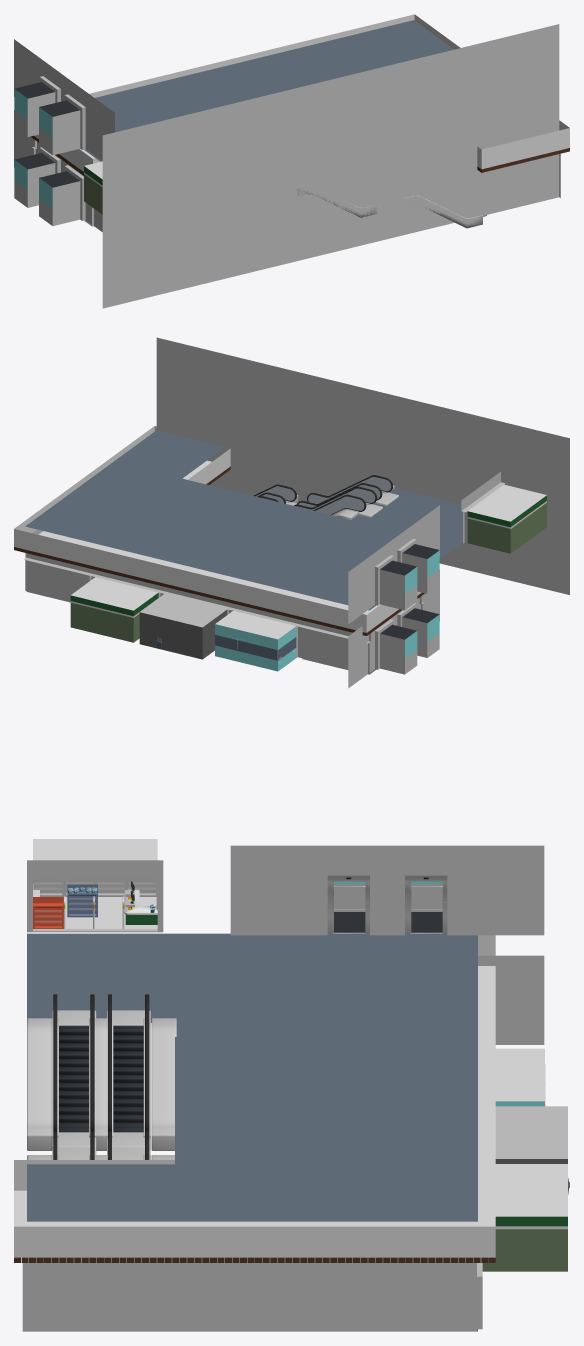
File: mall 0219 (3).fbx
3 renders of one model, top to bottom at view 1: azimuth 30°, elevation 25°; view 2: azimuth 150°, elevation 25°; view 3: azimuth 270°, elevation 25°, orthographic. The views are drawn at different scales.
Parts seen in each view (by area): view 1: floor tile.002, floor tile.037, roofOverlay, floor tile.031, floor tile.034, floor tile.030, floor tile.033, elevatorCabinet, elevatorCabinet.002, floor tile.043, elevatorCabinet.003, elevatorCabinet.001 (+8 smaller); view 2: floor tile.002, roofOverlay, floor tile.038, store_watsons.001, store_mcdonald.001, store_watsons, store_laundry shop.001, floor tile.037, floor tile.033, floor tile.030, floor tile.031, floor tile.034 (+20 smaller); view 3: floor tile.004, roofOverlay, floor tile.038, floor tile.037, floor tile.043, floor tile.044, floor tile.034, floor tile.040, store_watsons, store_watsons.001, floor tile.030, floor tile.031 (+30 smaller).
Boxes of the visible parts, bbox=[...] form: floor tile.002: bbox=[102, 24, 559, 308]; floor tile.037: bbox=[95, 20, 428, 108]; roofOverlay: bbox=[34, 14, 569, 171]; floor tile.031: bbox=[124, 86, 225, 123]; floor tile.034: bbox=[277, 49, 377, 86]; floor tile.030: bbox=[200, 68, 301, 105]; floor tile.033: bbox=[353, 31, 453, 67]; elevatorCabinet: bbox=[39, 171, 80, 225]; elevatorCabinet.002: bbox=[39, 100, 80, 155]; floor tile.043: bbox=[85, 92, 114, 161]; elevatorCabinet.003: bbox=[14, 82, 55, 136]; elevatorCabinet.001: bbox=[14, 153, 55, 207]; floor tile.002: bbox=[156, 337, 569, 594]; roofOverlay: bbox=[14, 426, 421, 632]; floor tile.038: bbox=[147, 478, 388, 554]; store_watsons.001: bbox=[461, 471, 546, 553]; store_mcdonald.001: bbox=[139, 587, 232, 659]; store_watsons: bbox=[70, 570, 163, 642]; store_laundry shop.001: bbox=[215, 603, 301, 671]; floor tile.037: bbox=[25, 517, 375, 610]; floor tile.033: bbox=[38, 487, 146, 533]; floor tile.030: bbox=[176, 521, 284, 566]; floor tile.031: bbox=[245, 538, 352, 583]; floor tile.034: bbox=[107, 504, 215, 550]; floor tile.004: bbox=[22, 1257, 476, 1331]; roofOverlay: bbox=[14, 935, 495, 1257]; floor tile.038: bbox=[175, 991, 296, 1164]; floor tile.037: bbox=[432, 934, 477, 1221]; floor tile.043: bbox=[230, 845, 321, 935]; floor tile.044: bbox=[453, 845, 544, 935]; floor tile.034: bbox=[296, 1106, 432, 1164]; floor tile.040: bbox=[27, 933, 163, 991]; store_watsons: bbox=[482, 1164, 567, 1271]; store_watsons.001: bbox=[27, 839, 163, 932]; floor tile.030: bbox=[296, 1049, 432, 1106]; floor tile.031: bbox=[296, 991, 432, 1048].
Bounding box in the file's own units: 4381 × 1650 × 2937.
